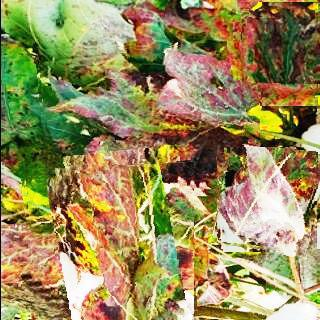blight: (241, 9, 320, 97)
leaf spot: (37, 44, 259, 196), (24, 162, 193, 320), (216, 147, 320, 255)
